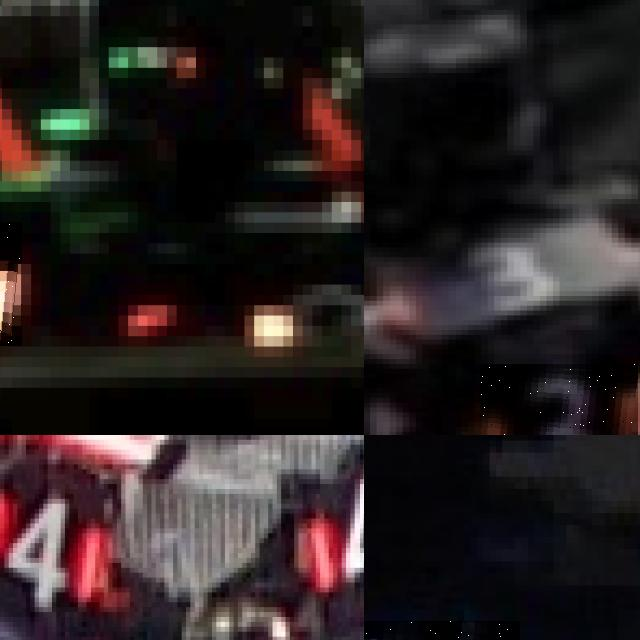R3: (481, 364, 637, 435)
R4: (0, 474, 108, 607), (302, 449, 364, 592)
